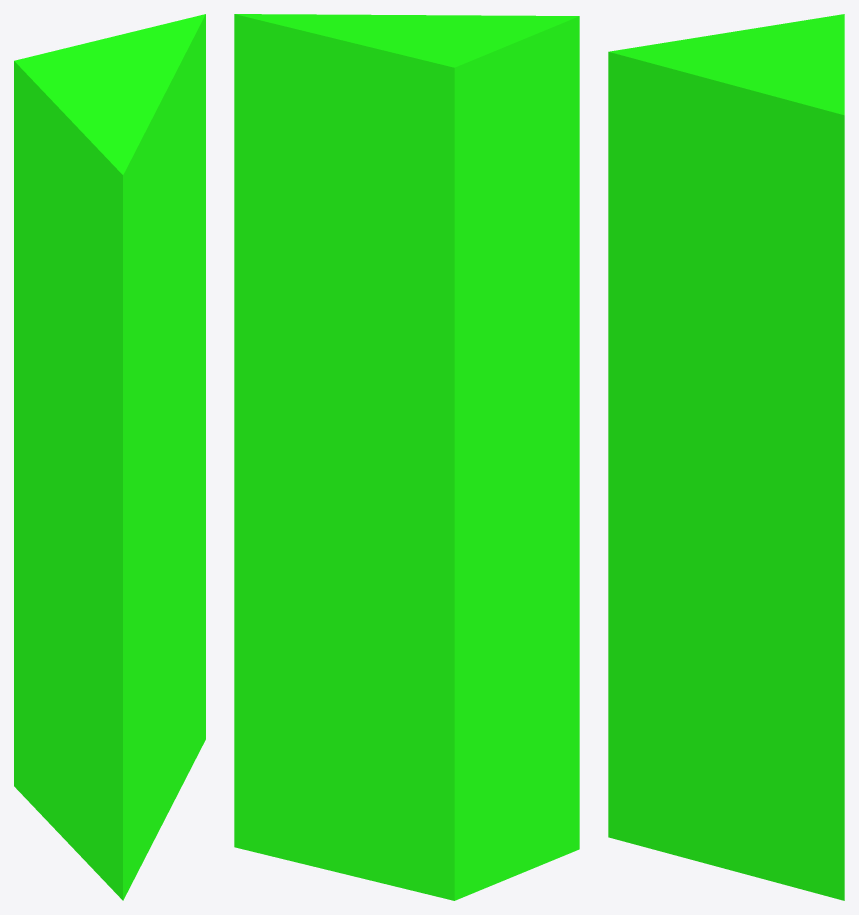
File: Cliff_Short_Right_Corner.glb
3 renders of one model, left to right at view 1: azimuth 30°, elevation 25°; view 2: azimuth 150°, elevation 25°; view 3: azimuth 270°, elevation 25°, orthographic. The views are drawn at different scales.
Parts seen in each view (by area): view 1: Cube; view 2: Cube; view 3: Cube.
Part boxes in pixels (bbox=[...]): Cube: bbox=[14, 14, 205, 900]; Cube: bbox=[234, 14, 579, 900]; Cube: bbox=[608, 14, 844, 900].
Size of the model in its own units: 1 by 3.79 by 0.9848.
Materials: 1 (1 with a texture image).
